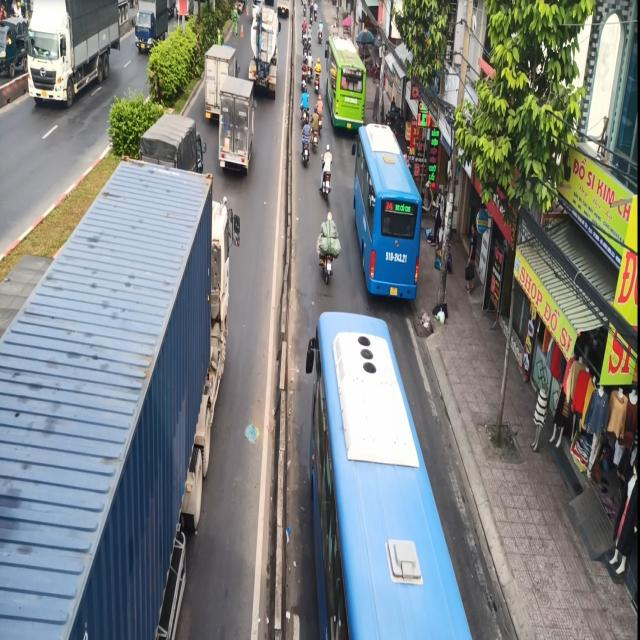bus: (306, 310, 474, 639), (352, 122, 423, 301), (323, 33, 366, 132)
motorcycle: (318, 252, 335, 284)
truck: (25, 0, 121, 108)
